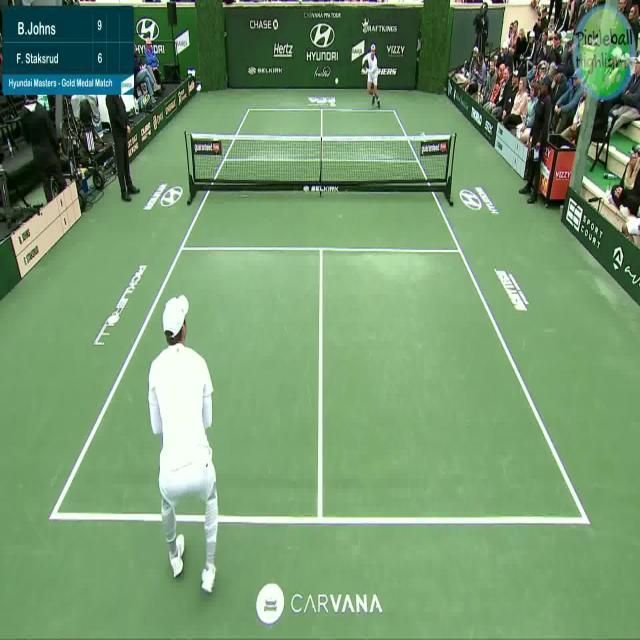ball: (333, 72, 339, 88)
